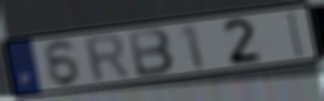1: (178, 22, 206, 71)
2: (221, 17, 265, 66)
6: (42, 37, 83, 88)
B: (126, 26, 177, 79)
I: (287, 9, 306, 60)
R: (81, 31, 134, 85)
